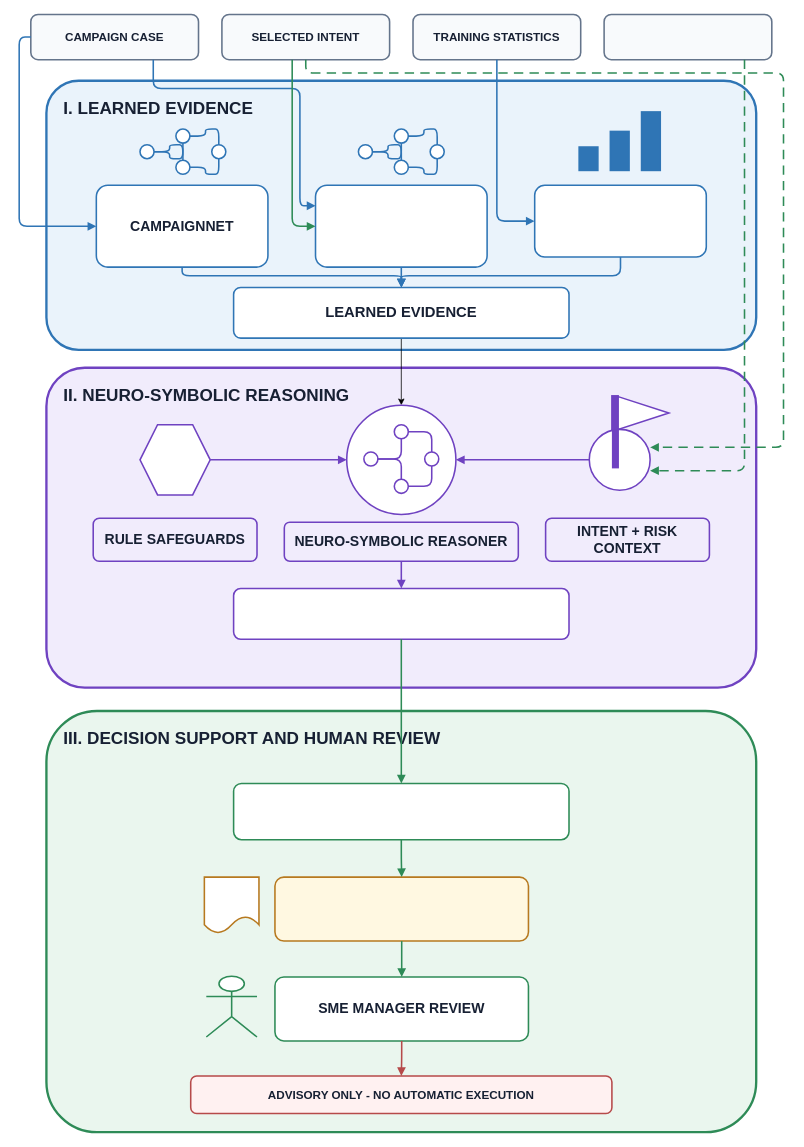
This 804x1147 diagram has some shape labels left out. The shapes that lost their labels are listed below. From the top down, each one's centre as x and y in pixels, then its label:
(687,36): RISK PREFERENCE
(401,226): ACTIONNET
(620,220): CHANNEL EVIDENCE
(175,459): RULES
(400,613): RANKED ACTION SCORES
(400,811): CONFIDENCE CALIBRATION + EXPLANATION
(401,908): RECOMMENDATION PACKAGE
